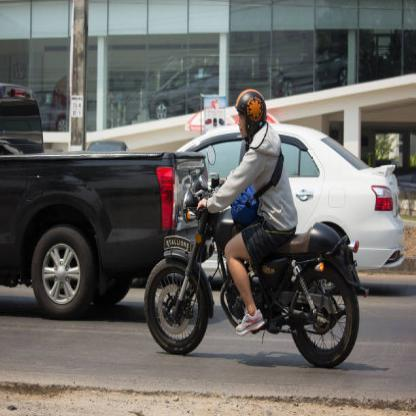Motorcycle: (138, 167, 362, 371)
